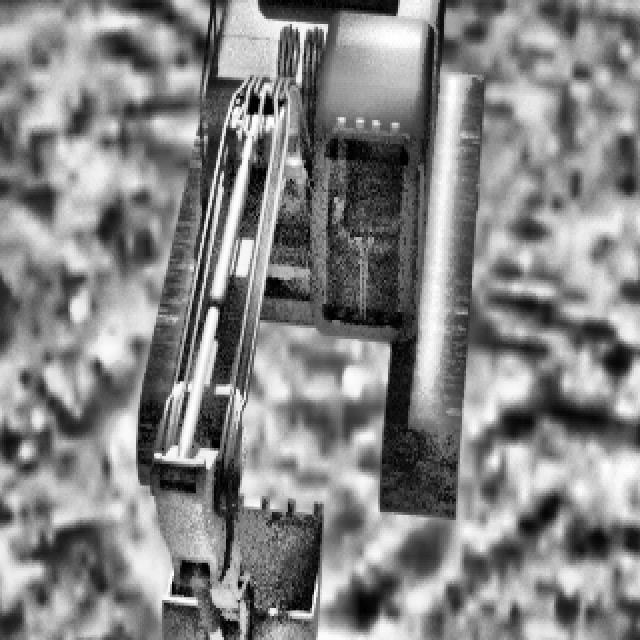excavator: (134, 0, 482, 640)
